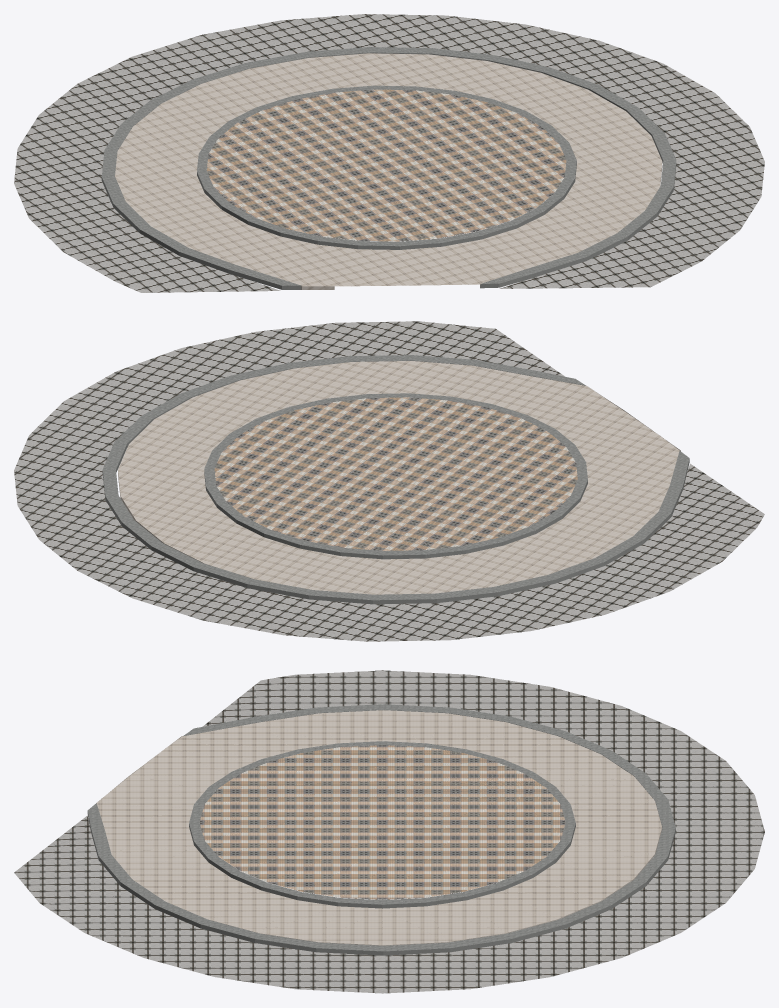
File: jingguan.gltf
3 views of the same model, one above another, from view 1: azimuth 30°, elevation 25°; view 2: azimuth 150°, elevation 25°; view 3: azimuth 270°, elevation 25° (orthographic).
Visible parts, largest first — view 1: Donut001, Donut003, Circle001, Donut002, Donut004; view 2: Donut001, Donut003, Circle001, Donut002, Donut004; view 3: Donut001, Donut003, Circle001, Donut002, Donut004.
Part boxes in pixels (x1,y1,x2,y2): Donut001: (14, 14, 764, 292); Donut003: (115, 53, 662, 289); Circle001: (206, 89, 566, 241); Donut002: (101, 47, 676, 289); Donut004: (197, 85, 576, 249); Donut001: (14, 321, 764, 641); Donut003: (118, 361, 680, 594); Circle001: (214, 397, 577, 550); Donut002: (102, 355, 689, 604); Donut004: (204, 393, 587, 559); Donut001: (14, 670, 764, 993); Donut003: (96, 710, 662, 945); Circle001: (199, 745, 565, 899); Donut002: (87, 704, 675, 955); Donut004: (189, 741, 575, 908).
Size of the model in its own units: 407 by 5.42 by 400.
Materials: 5 (5 with a texture image).
